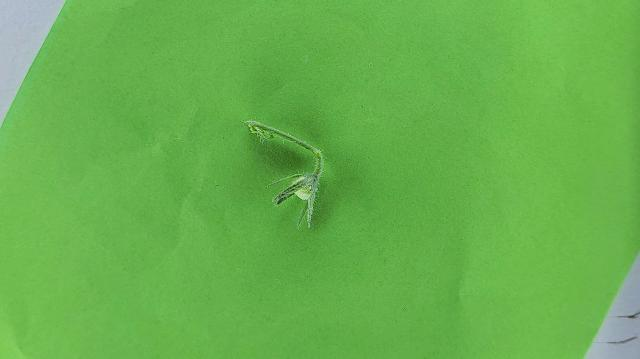Fruit Bud: (268, 170, 319, 228)
